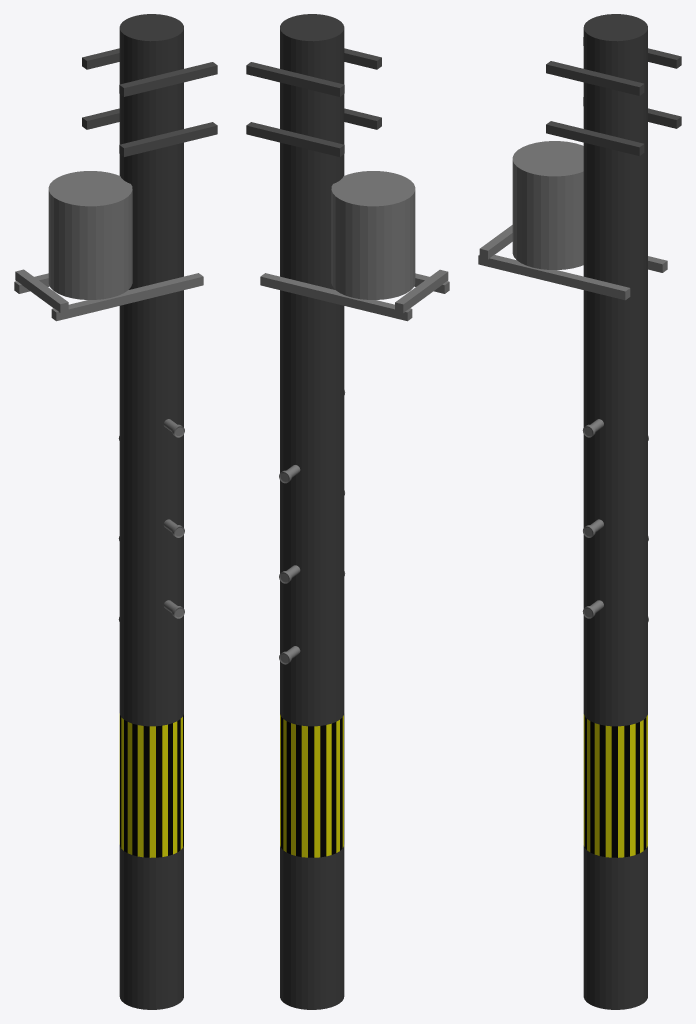
Rendered from telephonepole.fbx.
3 renders of one model, left to right at view 1: azimuth 30°, elevation 25°; view 2: azimuth 150°, elevation 25°; view 3: azimuth 330°, elevation 25°, orthographic.
Parts seen in each view (by area): view 1: 円柱.015, 円柱.019, 円柱.020, 円柱.021, 円柱.016, 円柱, 円柱.022, 円柱.012, 円柱.011, 円柱.013, 立方体.006, 円柱.018 (+7 smaller); view 2: 円柱.015, 円柱.021, 円柱.019, 円柱.016, 円柱.020, 円柱, 円柱.022, 円柱.005, 円柱.004, 円柱.013, 立方体, 円柱.018 (+7 smaller); view 3: 円柱.015, 円柱.019, 円柱.021, 円柱.020, 円柱.016, 円柱.022, 円柱, 円柱.009, 円柱.010, 円柱.013, 立方体.006, 円柱.018 (+7 smaller).
Boxes of the visible parts, x1,y1,x2,y2 form: 円柱.015: [119, 845, 183, 1009]; 円柱.019: [119, 576, 183, 726]; 円柱.020: [119, 439, 183, 589]; 円柱.021: [119, 303, 183, 452]; 円柱.016: [119, 713, 183, 857]; 円柱: [119, 28, 183, 178]; 円柱.022: [119, 165, 183, 315]; 円柱.012: [54, 197, 111, 253]; 円柱.011: [54, 244, 111, 299]; 円柱.013: [48, 171, 132, 206]; 立方体.006: [51, 273, 203, 321]; 円柱.018: [119, 14, 183, 41]; 円柱.015: [280, 845, 344, 1009]; 円柱.021: [280, 303, 344, 452]; 円柱.019: [280, 576, 344, 726]; 円柱.016: [280, 713, 344, 857]; 円柱.020: [280, 439, 344, 589]; 円柱: [280, 28, 344, 178]; 円柱.022: [280, 165, 344, 315]; 円柱.005: [352, 197, 409, 253]; 円柱.004: [352, 244, 409, 299]; 円柱.013: [331, 171, 415, 206]; 立方体: [260, 273, 412, 321]; 円柱.018: [280, 14, 344, 41]; 円柱.015: [583, 845, 647, 1009]; 円柱.019: [583, 577, 647, 726]; 円柱.021: [583, 303, 647, 452]; 円柱.020: [583, 440, 647, 589]; 円柱.016: [583, 714, 647, 857]; 円柱.022: [583, 166, 647, 315]; 円柱: [583, 29, 647, 178]; 円柱.009: [533, 171, 583, 223]; 円柱.010: [533, 218, 583, 269]; 円柱.013: [512, 141, 583, 176]; 立方体.006: [478, 254, 630, 300]; 円柱.018: [583, 14, 647, 41].
Size of the model in its own units: 2.42 by 13.86 by 1.44.
